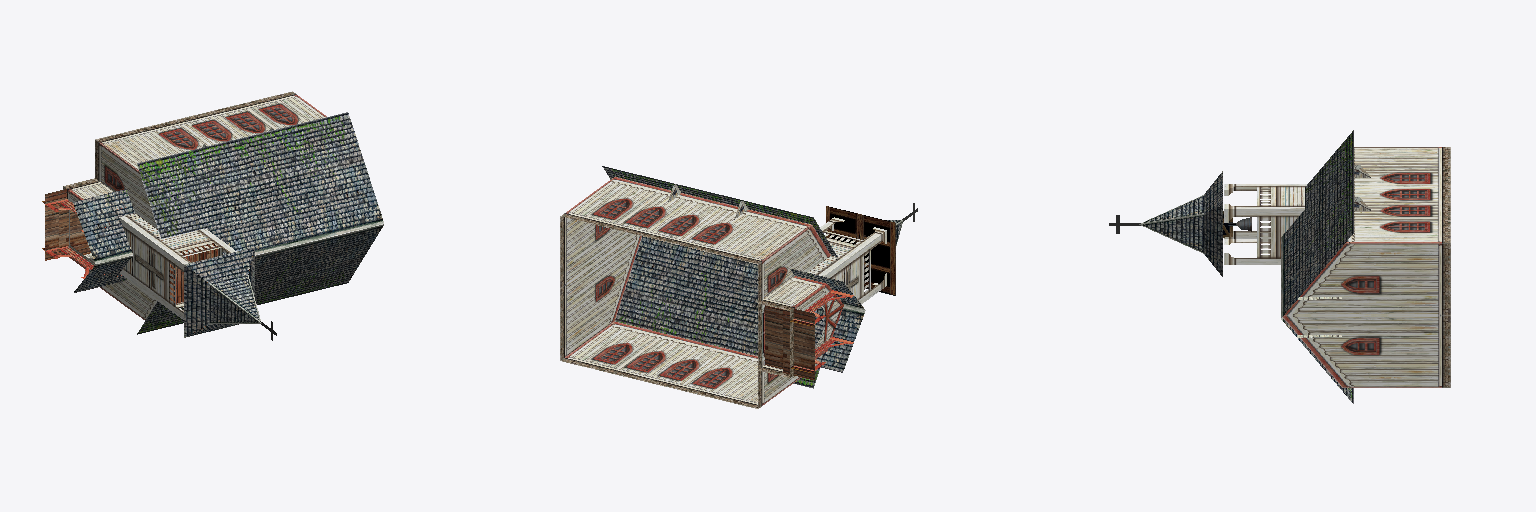
The picture shows the model from 3 angles: view 1: azimuth 30°, elevation 25°; view 2: azimuth 150°, elevation 25°; view 3: azimuth 270°, elevation 25°; orthographic projection.
Size of the model in its own units: 243 by 154 by 278.
Materials: 21 (20 with a texture image).